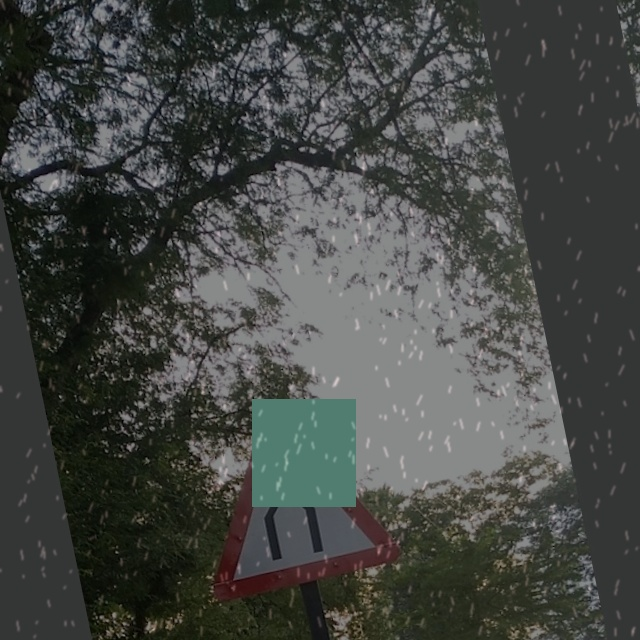Narrow_Road_Ahead: (181, 385, 405, 600)
